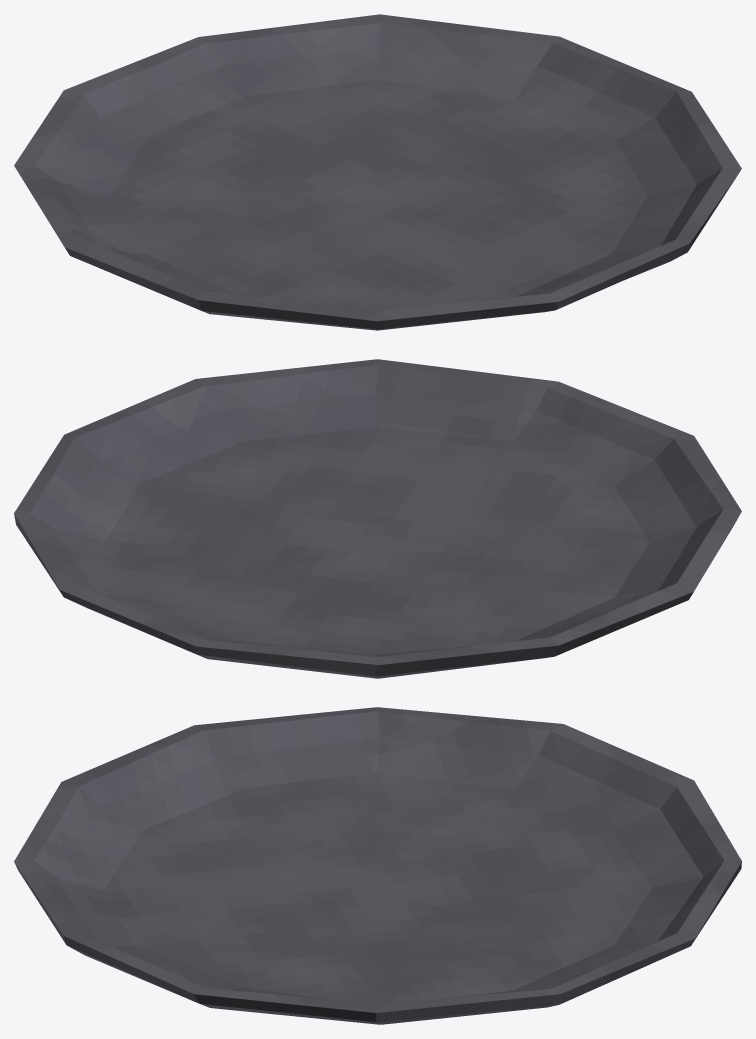
Rendered from plate_flat_01_godot.glb.
3 views of the same model, one above another, from view 1: azimuth 30°, elevation 25°; view 2: azimuth 150°, elevation 25°; view 3: azimuth 270°, elevation 25° (orthographic).
Parts seen in each view (by area): view 1: plate_flat_01; view 2: plate_flat_01; view 3: plate_flat_01.
Boxes of the visible parts, x1,y1,x2,y2 form: plate_flat_01: (14,14,741,330); plate_flat_01: (14,359,741,678); plate_flat_01: (14,707,741,1024).
Size of what is drawn, in the model's own units: 0.3078 by 0.0212 by 0.3068.
1 material, 1 textured.
